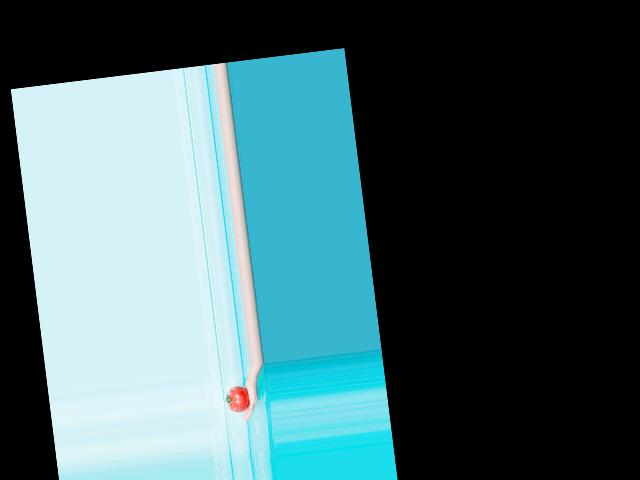tomato: (225, 385, 251, 414)
